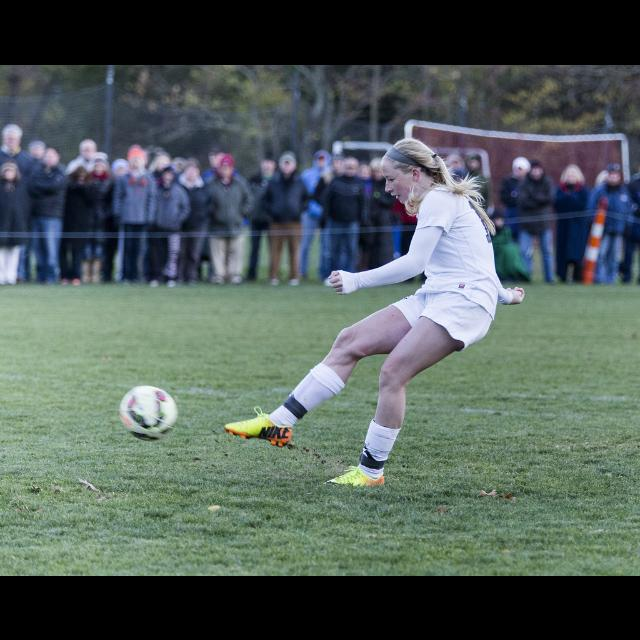Football: (118, 382, 178, 440)
